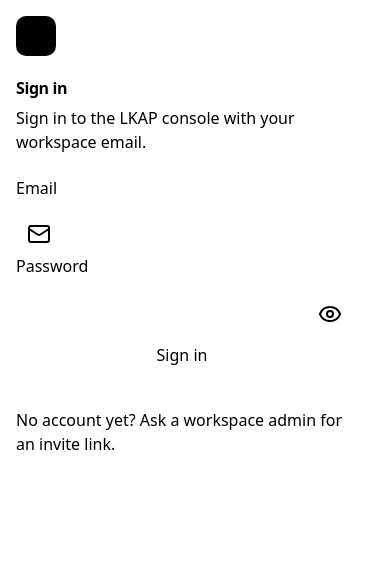
LoginForm › shows a plain error with a next step on a failed login, never the api's raw text
Step 1. Type "owner@local" into the field labelled "Email" → (182, 222), box [16,204,348,240]
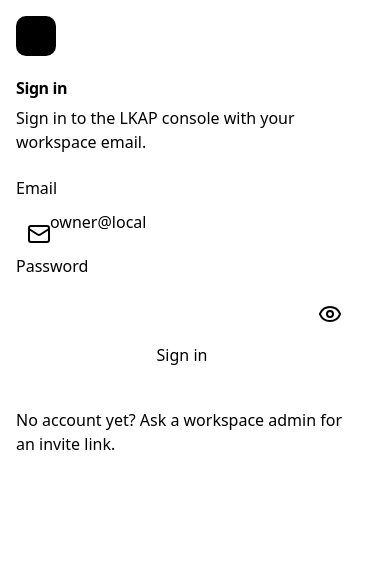
Step 2. Type "wrong" into the password field labelled "Password" → (182, 300), box [16,282,348,318]
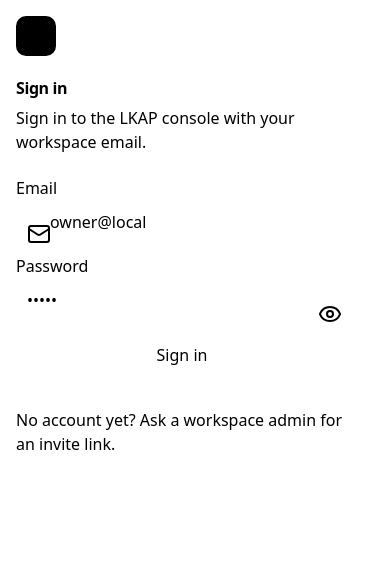
Step 3. Click the button "Sign in" → (182, 355), box [16,338,348,372]
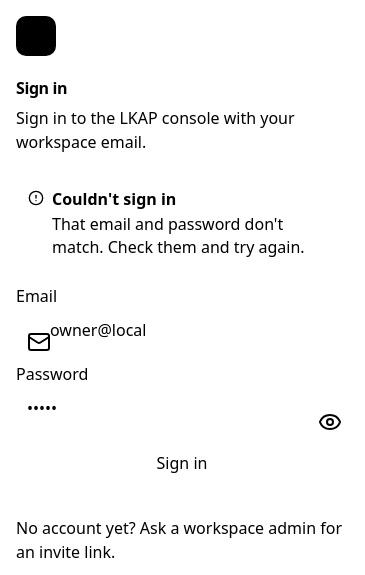
Result: the message shows "That email and password don't match. Check them and try again." at [52,213,305,258]
